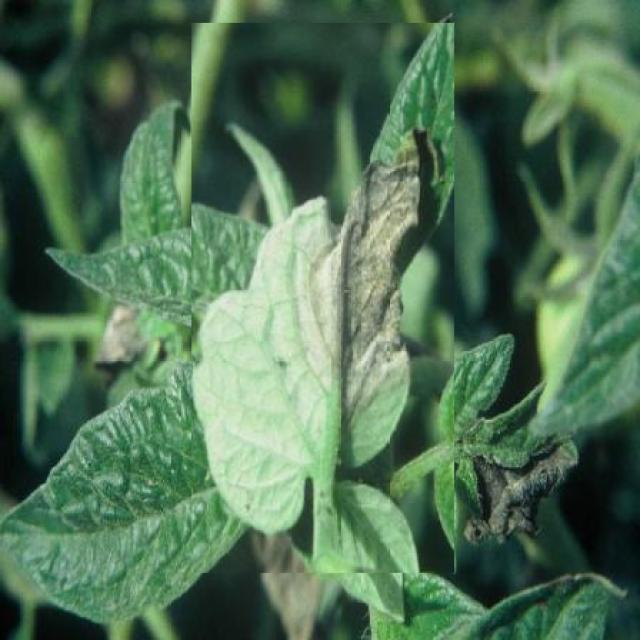Late Blight: (192, 23, 454, 573)
